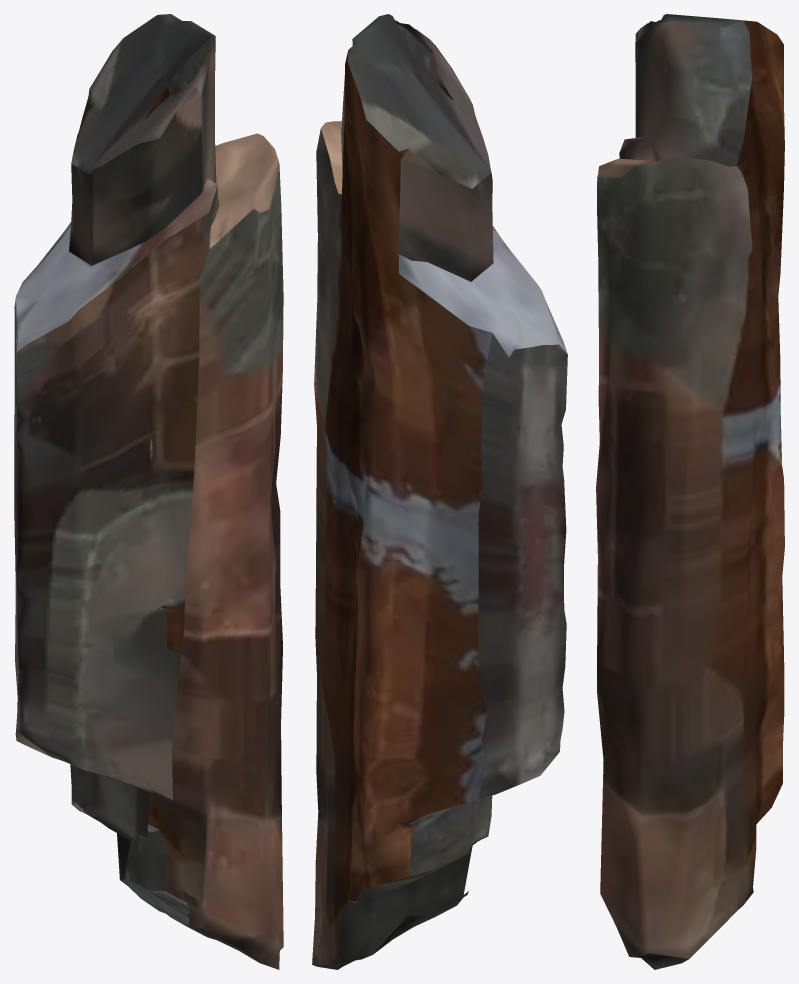
3 renders of one model, left to right at view 1: azimuth 30°, elevation 25°; view 2: azimuth 150°, elevation 25°; view 3: azimuth 270°, elevation 25°, orthographic. The views are drawn at different scales.
Visible parts, largest first — view 1: SM_Crucible_01_LOD0; view 2: SM_Crucible_01_LOD0; view 3: SM_Crucible_01_LOD0.
Part boxes in pixels (bbox=[...]): SM_Crucible_01_LOD0: bbox=[14, 14, 283, 969]; SM_Crucible_01_LOD0: bbox=[312, 14, 567, 969]; SM_Crucible_01_LOD0: bbox=[596, 14, 784, 969].
Bounding box in the file's own units: 6.23 × 22.65 × 4.19.
